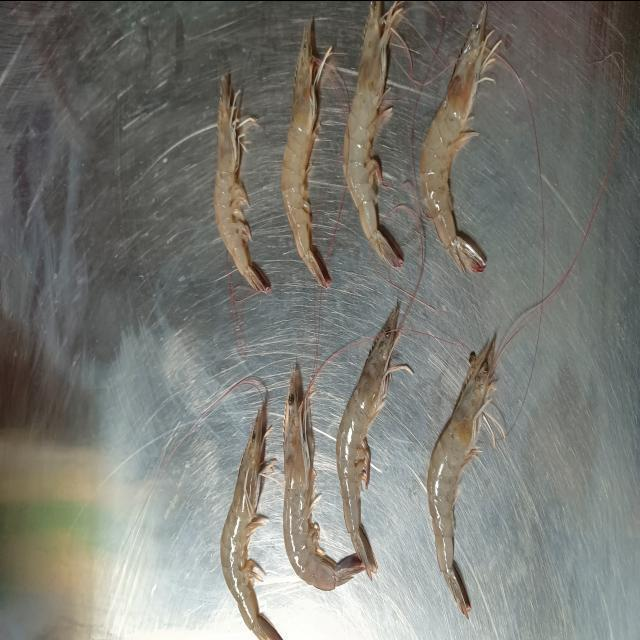shrimp: (420, 2, 499, 273), (336, 306, 412, 578), (428, 337, 495, 618), (284, 368, 365, 589), (344, 0, 402, 268), (220, 401, 282, 640), (281, 22, 331, 288), (214, 73, 270, 292)
